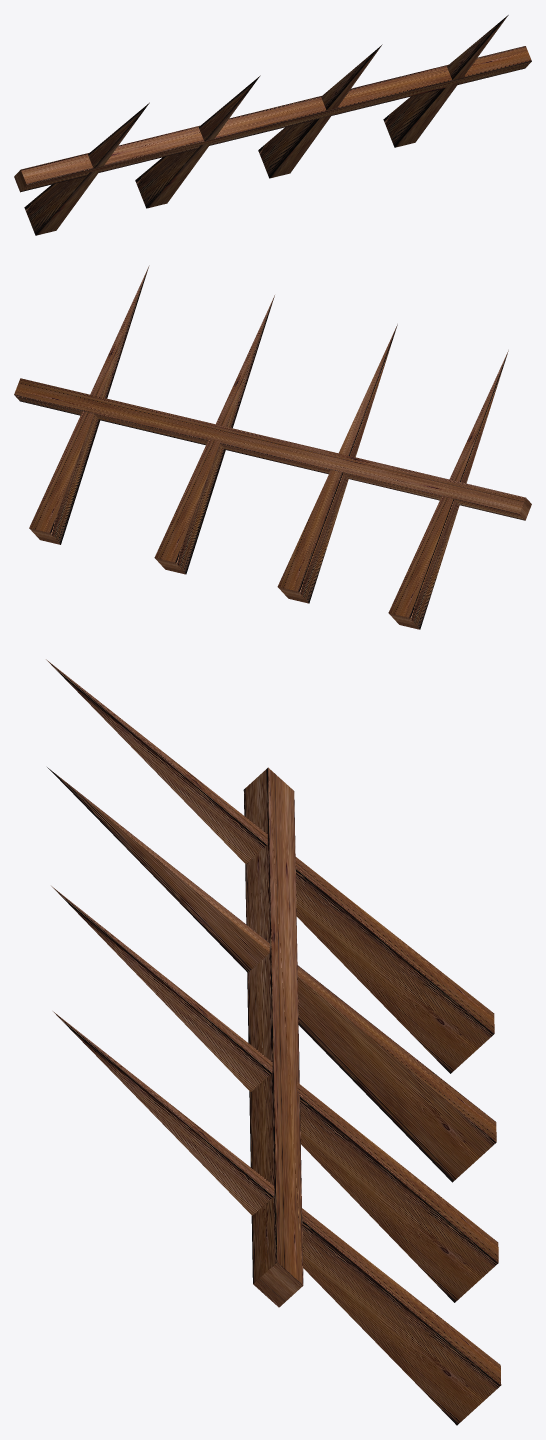
The model's file is WoodSpiked.FBX.
3 views of the same model, one above another, from view 1: azimuth 30°, elevation 25°; view 2: azimuth 150°, elevation 25°; view 3: azimuth 270°, elevation 25° (orthographic). The views are drawn at different scales.
Parts seen in each view (by area): view 1: WoodSpiked; view 2: WoodSpiked; view 3: WoodSpiked.
Part boxes in pixels (x1,y1,x2,y2): WoodSpiked: (14, 15, 531, 235); WoodSpiked: (14, 265, 531, 629); WoodSpiked: (46, 659, 501, 1425).
Size of the model in its own units: 85.92 by 33.44 by 33.73.
